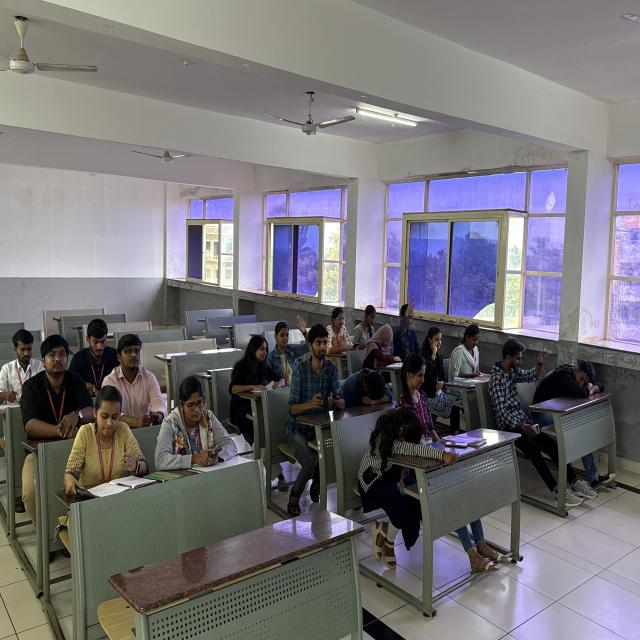Hand Rising: (268, 304, 311, 391), (394, 285, 424, 363)
Reading: (84, 377, 164, 502), (400, 355, 486, 463)
Sleeping: (349, 400, 447, 547), (544, 351, 622, 433), (339, 354, 394, 421)
Using Phone: (158, 378, 241, 489), (321, 303, 362, 364)
